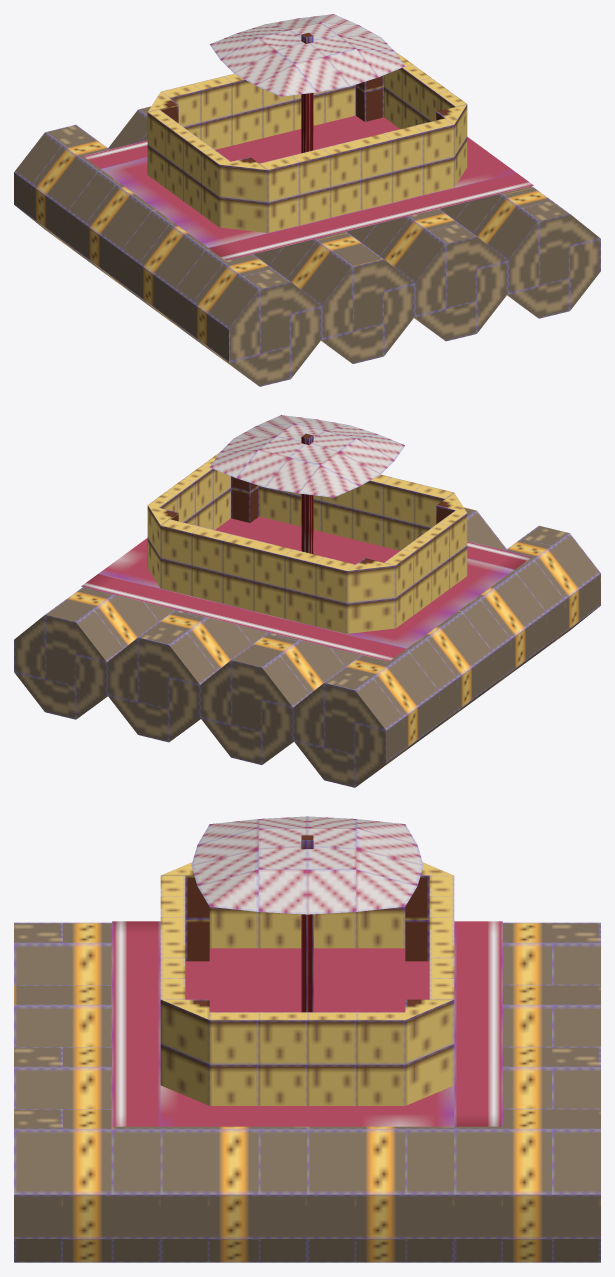
The model's file is Libations_FBX.fbx.
The picture shows the model from 3 angles, top to bottom: view 1: azimuth 30°, elevation 25°; view 2: azimuth 150°, elevation 25°; view 3: azimuth 270°, elevation 25°; orthographic projection. The views are drawn at different scales.
Parts seen in each view (by area): view 1: Larder; view 2: Larder; view 3: Larder.
Part boxes in pixels (box(x1,y1,x2,y2)): Larder: box(14, 14, 600, 386); Larder: box(14, 415, 600, 787); Larder: box(14, 816, 600, 1262).
Size of the model in its own units: 600 by 363 by 600.
